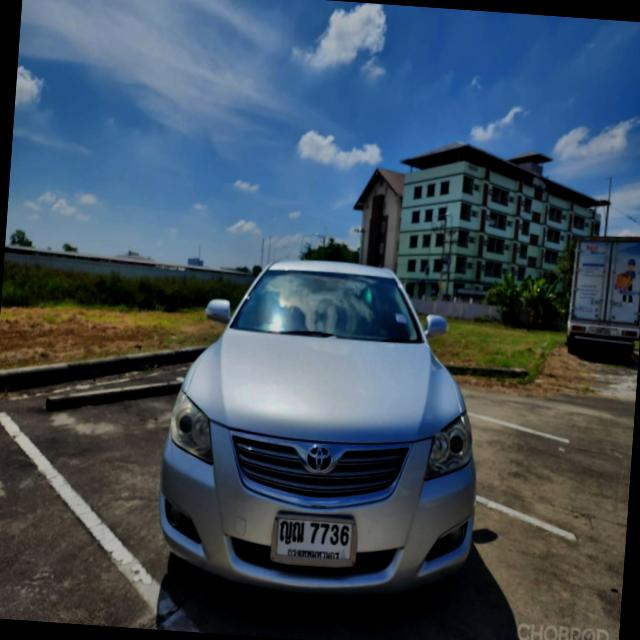license_plate: (268, 508, 360, 570)
